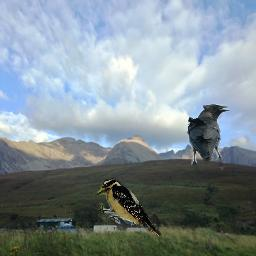Crow: (187, 102, 230, 171)
Woodpecker: (96, 176, 162, 237)
